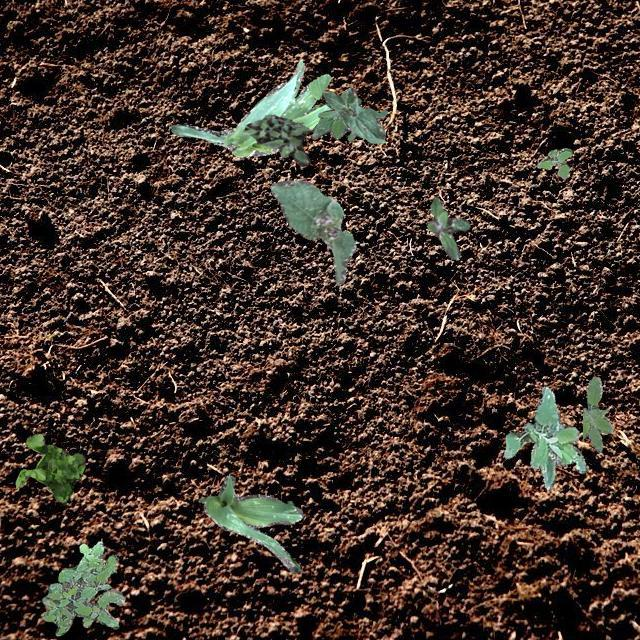crop: (170, 59, 332, 158), (198, 472, 302, 572), (268, 180, 354, 284), (320, 86, 384, 142)
weed: (502, 386, 586, 488), (40, 540, 124, 634), (15, 432, 84, 503), (242, 114, 310, 166), (426, 196, 468, 258), (312, 108, 386, 140), (582, 376, 612, 452), (536, 148, 572, 178)
